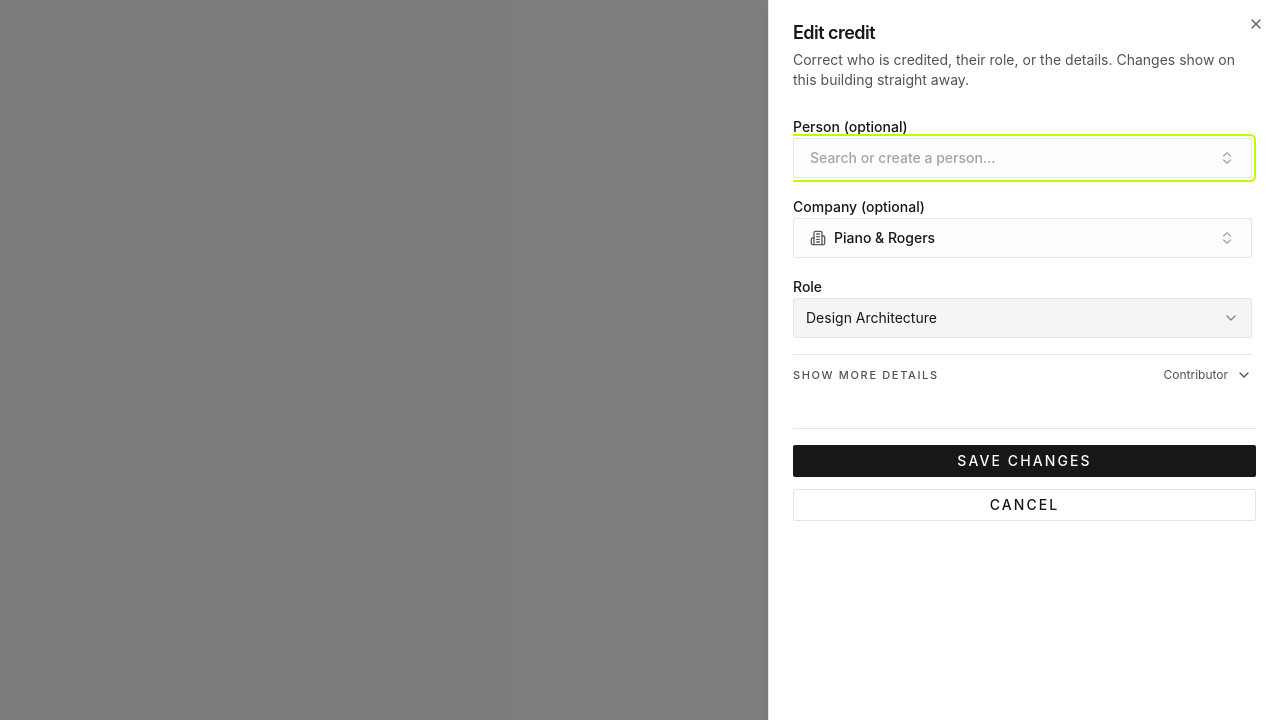
Test: EditCreditForm progressive disclosure › reveals the folded fields when the disclosure is opened
Click the button "Show more details Contributor" at (866, 375), box top-left (793, 354), bottom-right (1252, 396)
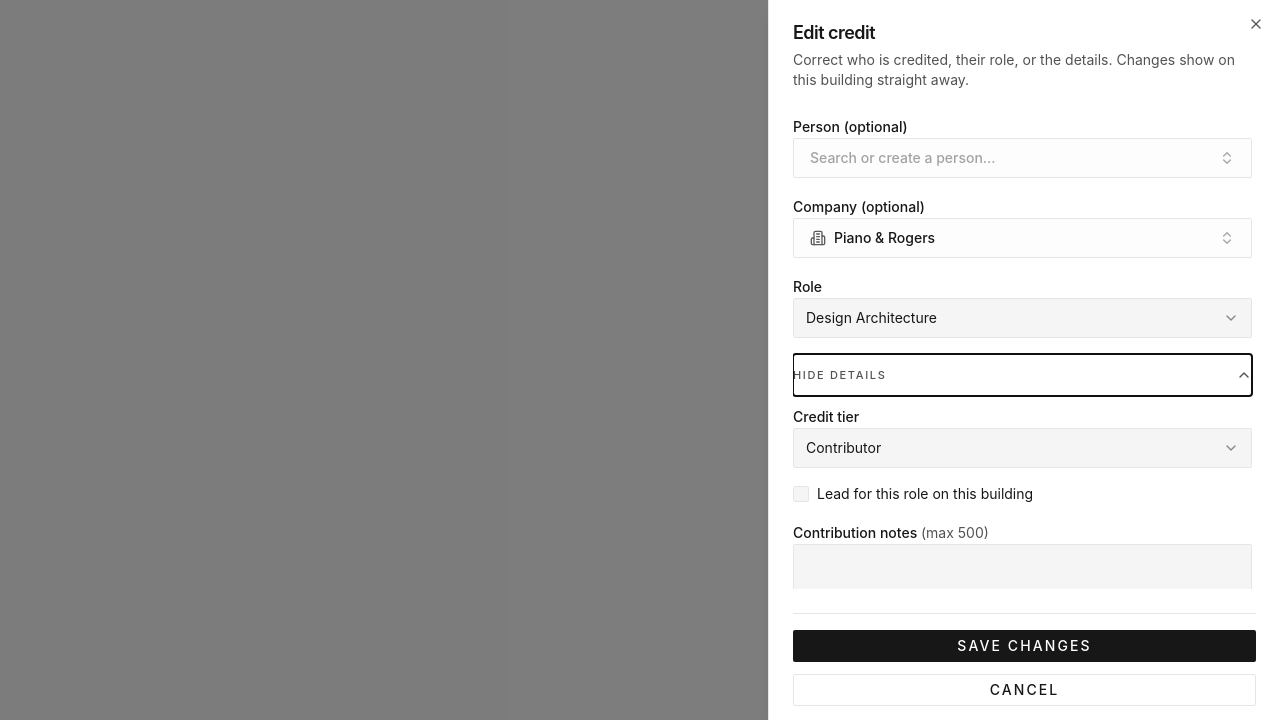
Expected: the dropdown named "credit tier" is shown, top-left (793, 428), bottom-right (1252, 468)
Expected: the button "Hide details" is shown, top-left (793, 354), bottom-right (1252, 396)
